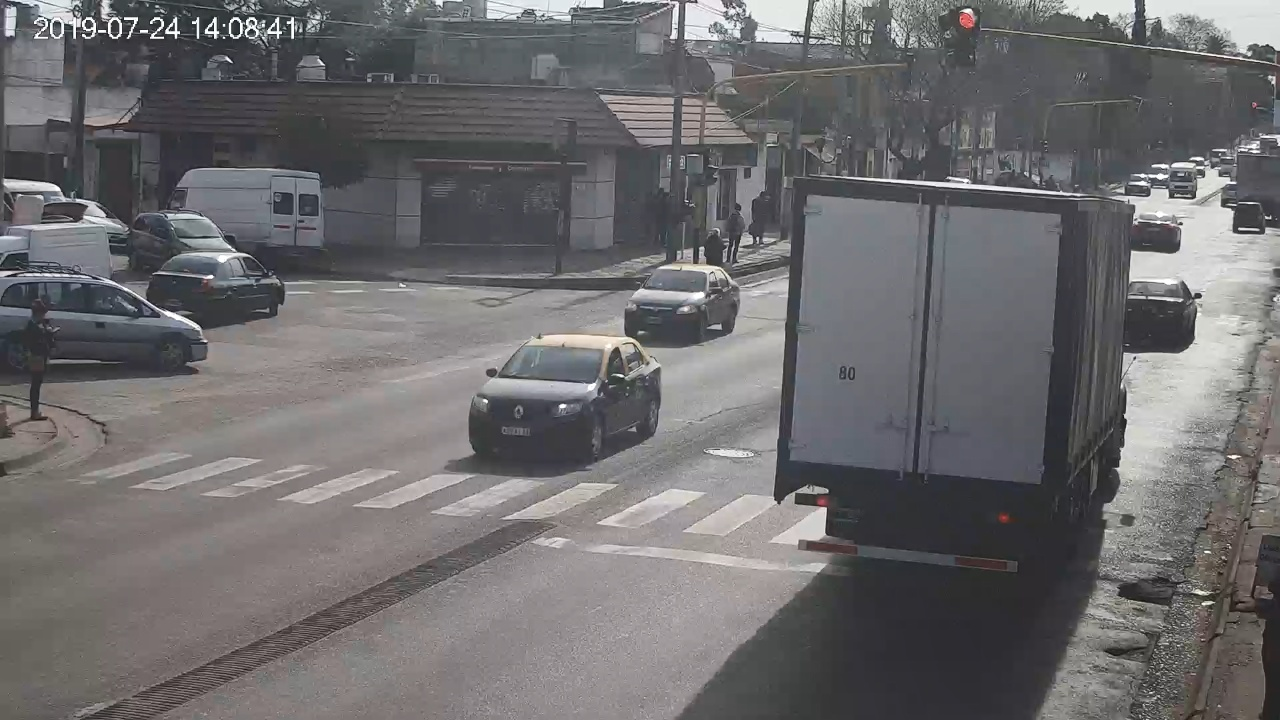traffic light: (957, 6, 980, 66)
truck: (773, 175, 1135, 573)
